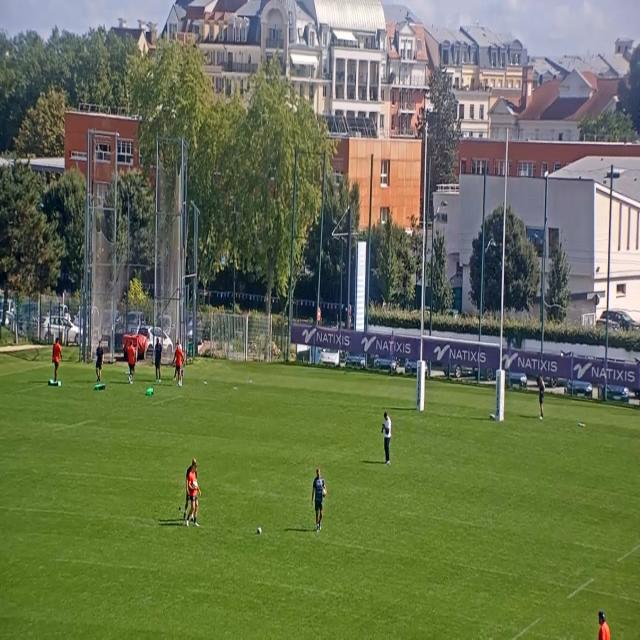rugby ball: (322, 484, 329, 504), (257, 524, 264, 542), (194, 477, 200, 493)
rugby play: (306, 462, 328, 530), (184, 451, 200, 522), (379, 397, 395, 461), (50, 332, 65, 383), (173, 331, 185, 387), (536, 365, 548, 419), (126, 331, 138, 384), (596, 604, 613, 638), (95, 337, 106, 382), (155, 335, 163, 378)
